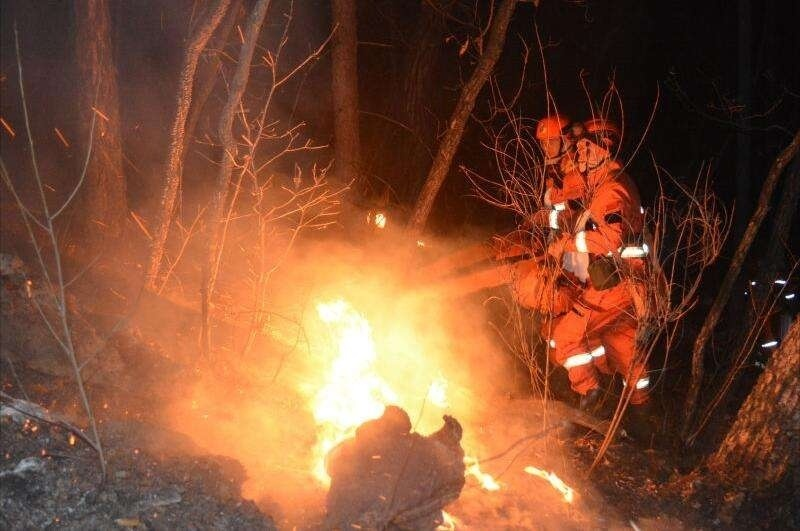fire: (296, 294, 490, 493), (522, 462, 575, 501)
